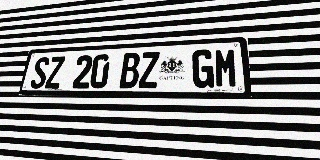0: (89, 54, 110, 88)
2: (72, 55, 93, 88)
B: (119, 52, 140, 88)
G: (192, 49, 214, 88)
M: (214, 48, 238, 88)
S: (29, 57, 50, 89)
Z: (138, 51, 160, 88), (44, 56, 65, 88)
